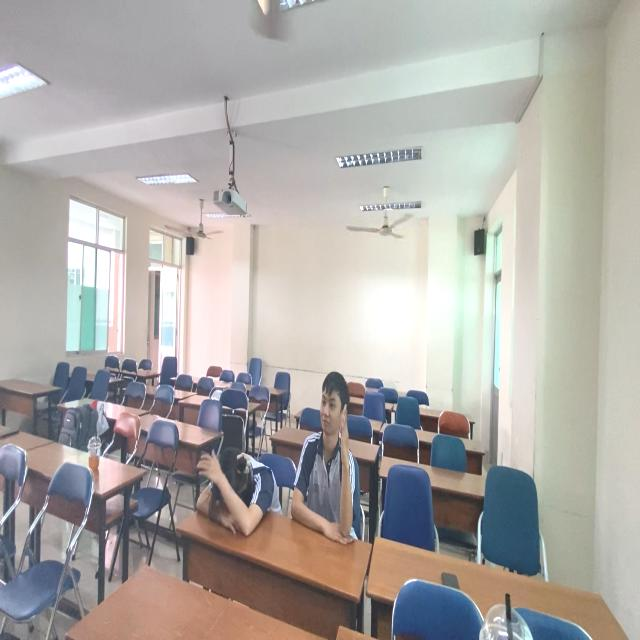raise_hand: (290, 368, 366, 536)
sleep: (192, 448, 284, 537)
